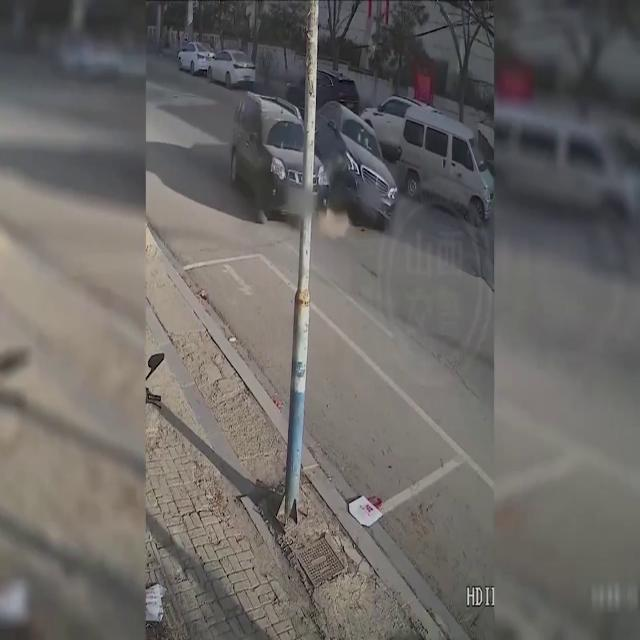accident: (233, 88, 397, 224)
non-accident: (363, 94, 493, 216), (178, 44, 252, 88)
